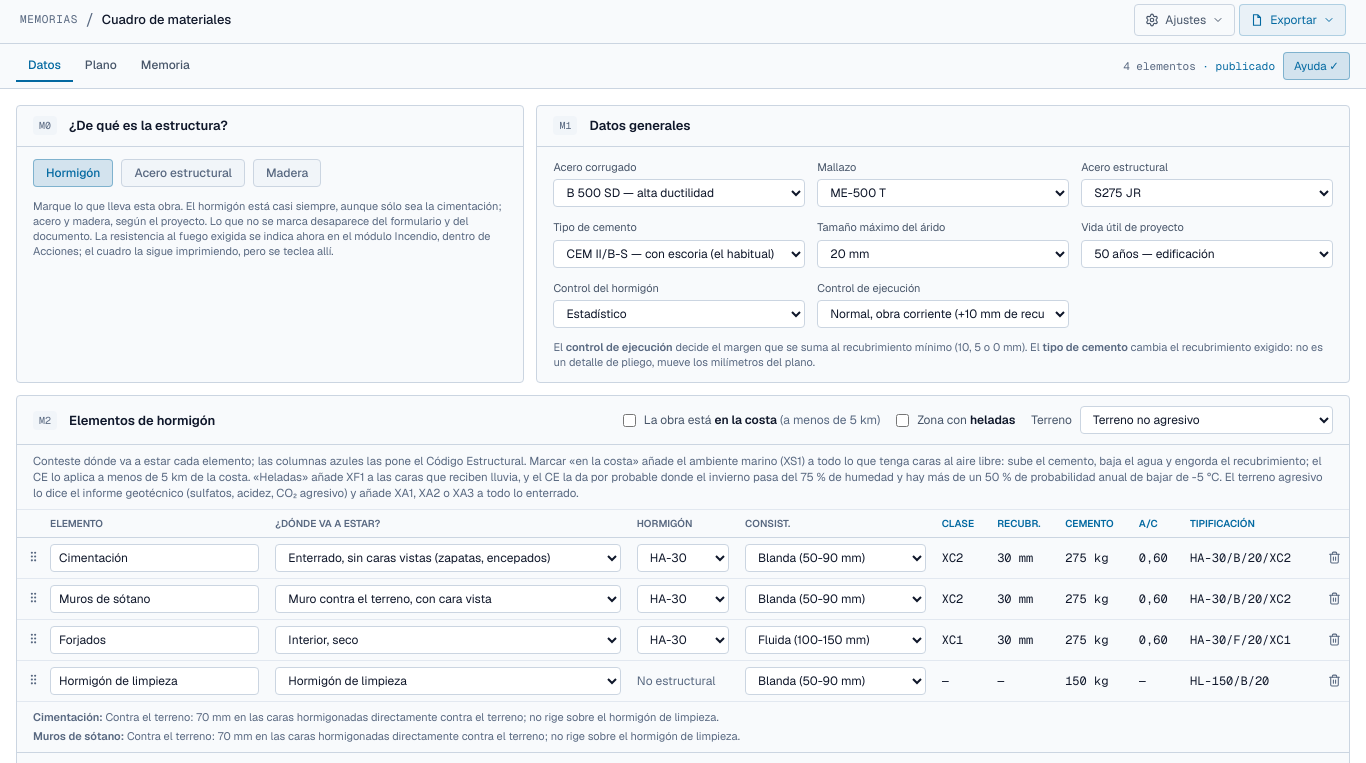
la nota de fuego del cuadro › sale de lo publicado por el módulo de incendio
Step 1. Click the tab "Plano" → {"x": 101, "y": 66}, box [73,50,129,82]
(page scrolled)
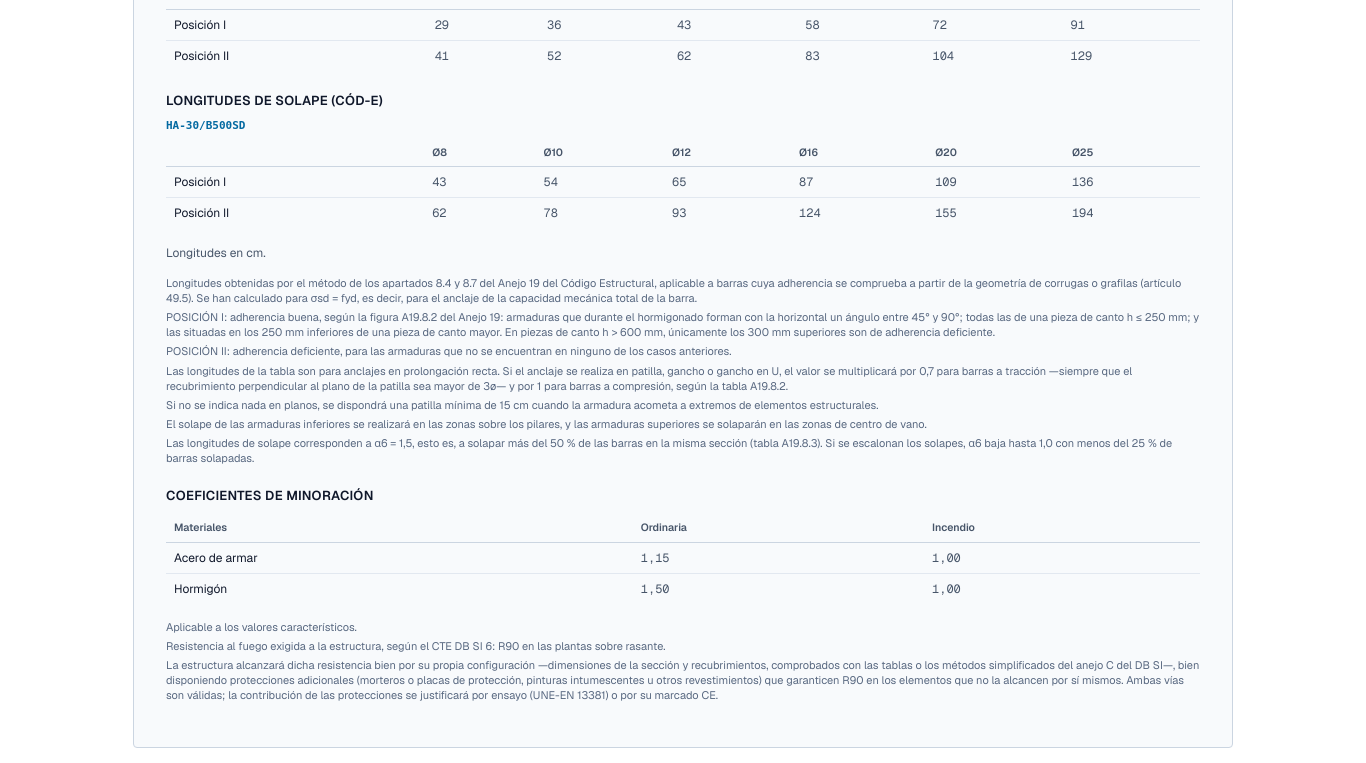
Expected: the list item "R90 en las plantas sobre rasante" is shown, [166,639,666,653]
